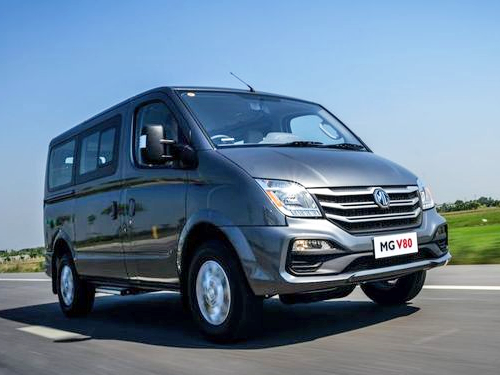van: (42, 83, 454, 345)
